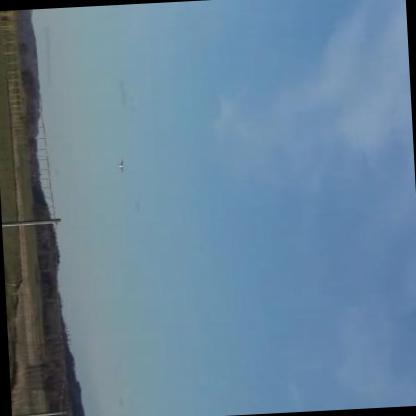plane: (115, 159, 124, 175)
